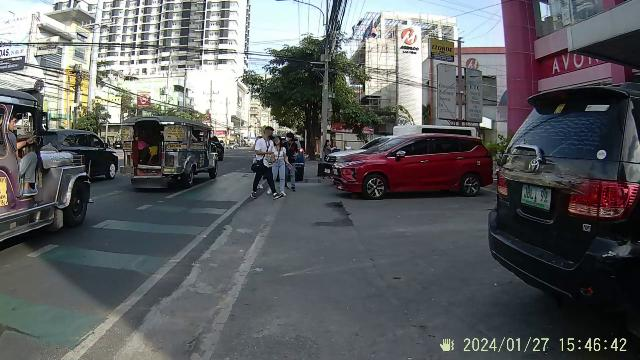car: (328, 124, 494, 208)
